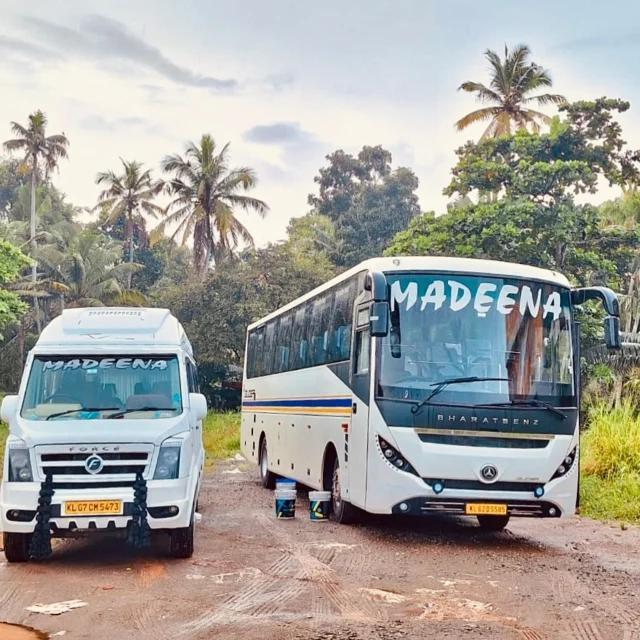Bus: (240, 257, 591, 531)
